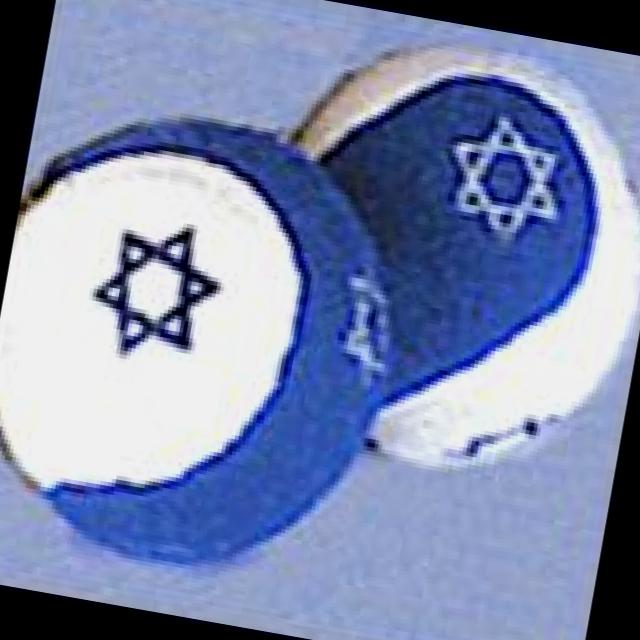Tennis Ball: (0, 117, 390, 569), (290, 41, 640, 468)
